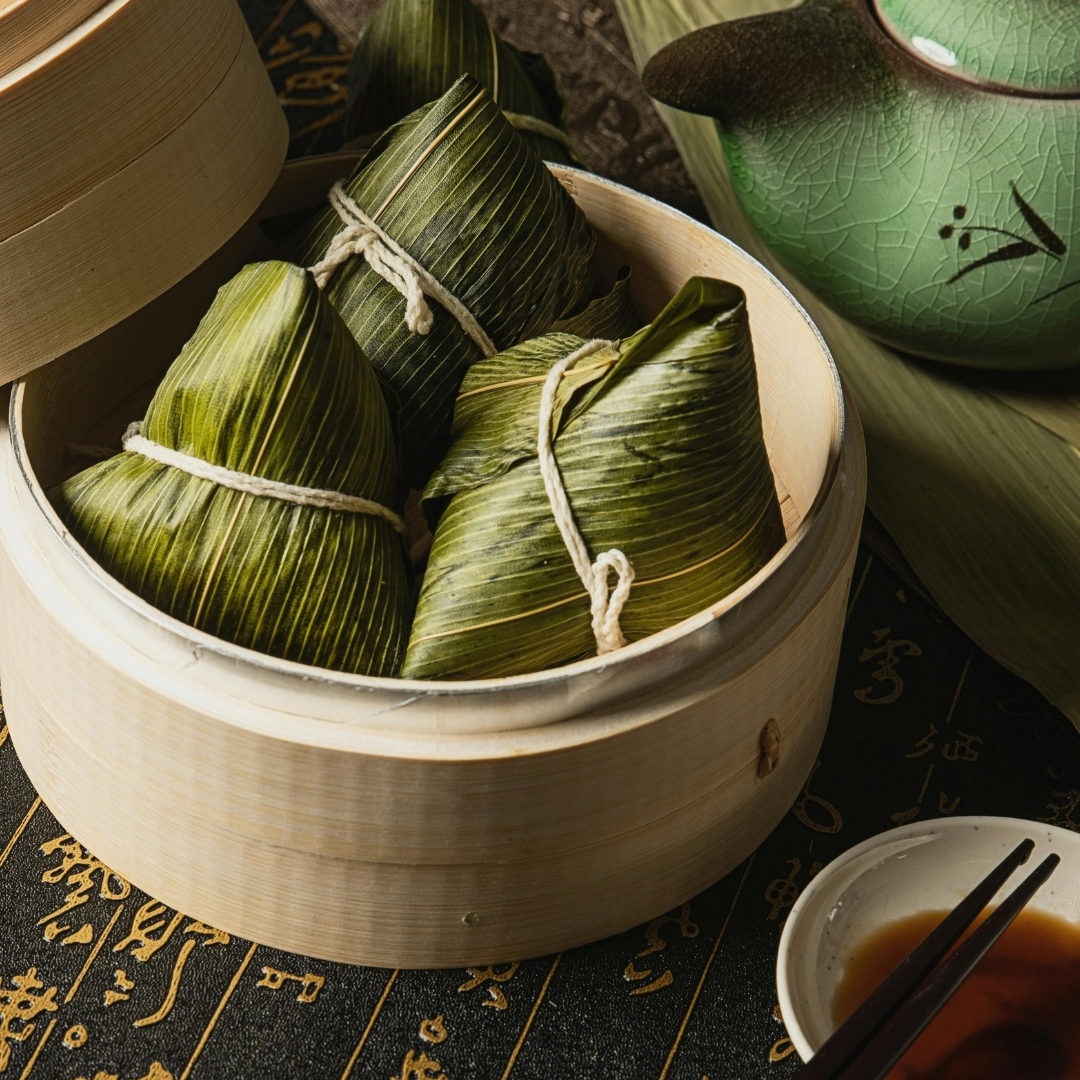zongzi: (402, 278, 784, 676), (54, 261, 411, 673), (338, 75, 593, 354), (324, 249, 483, 486), (283, 204, 345, 267)
